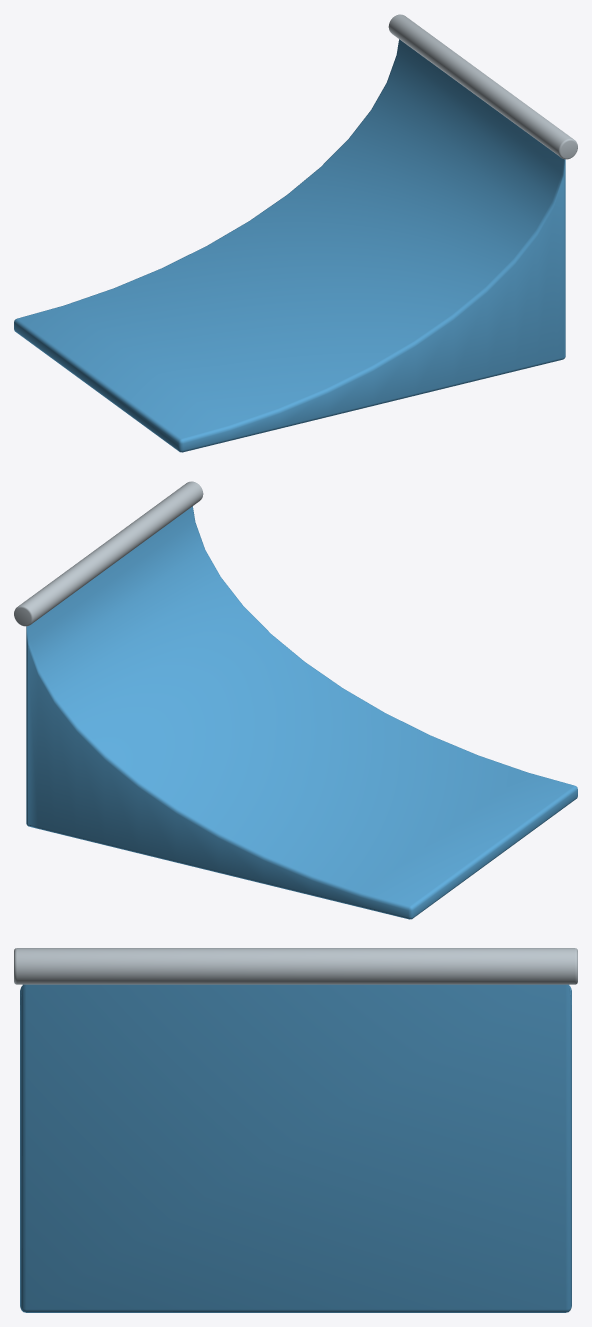
Rendered from ramp.glb.
3 renders of one model, top to bottom at view 1: azimuth 30°, elevation 25°; view 2: azimuth 150°, elevation 25°; view 3: azimuth 270°, elevation 25°, orthographic. The views are drawn at different scales.
Visible parts, largest first — view 1: ramp_textured_mesh; view 2: ramp_textured_mesh; view 3: ramp_textured_mesh.
Boxes of the visible parts, x1,y1,x2,y2 form: ramp_textured_mesh: [14, 14, 577, 452]; ramp_textured_mesh: [14, 481, 577, 919]; ramp_textured_mesh: [14, 948, 577, 1312].
Size of the model in its own units: 4.92 by 2.63 by 3.68.
1 material, 1 textured.
